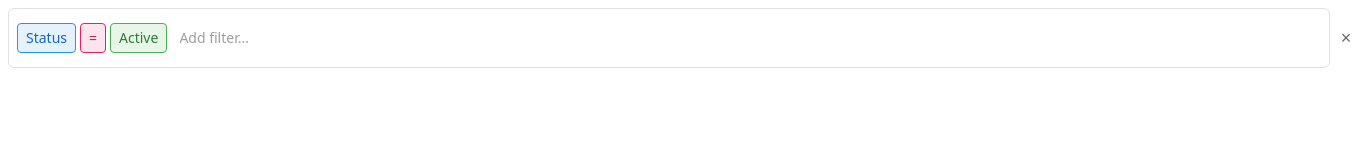
Scenario: FilterBox - Mouse and Keyboard Interaction › should properly reset state when Escape is pressed after mixed interactions
Double-click to edit (mixing mouse interaction)
Double-click the option with aria-label "value: Active" at (139, 38), box [110, 23, 167, 53]
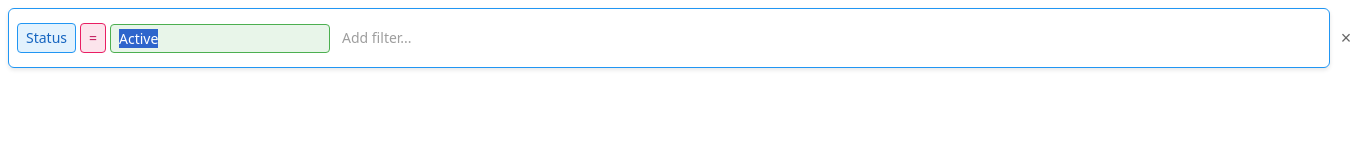
Check: the field named "edit value" is shown, box [111, 24, 329, 52]
Press Escape to cancel (keyboard interaction)
Press Escape
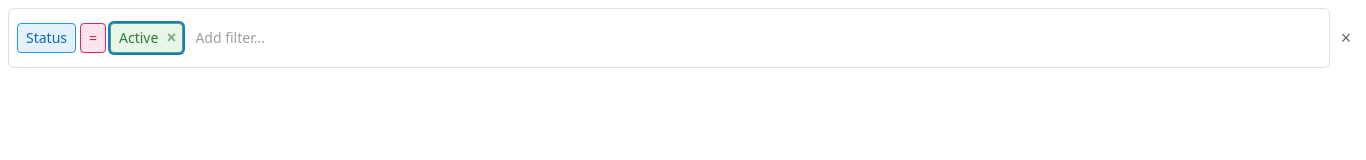
Check: the option "Active ×" is shown, box [110, 23, 183, 53]
